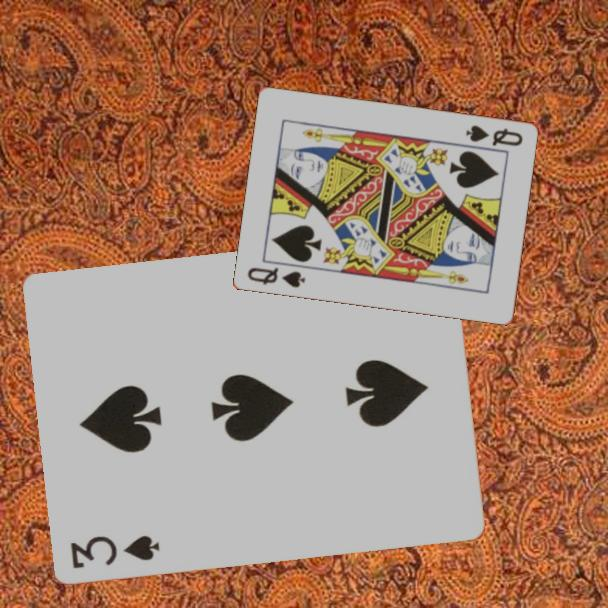s03: (67, 531, 163, 571)
s12: (463, 121, 526, 149), (244, 263, 309, 290)
